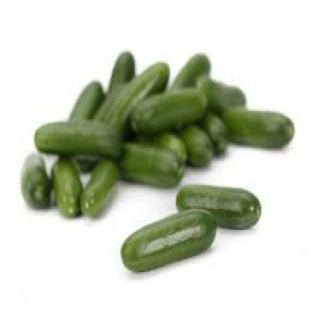Cucumber: (122, 210, 215, 271), (102, 63, 169, 131), (176, 185, 261, 228), (132, 89, 205, 135), (35, 121, 121, 157), (120, 144, 184, 188), (222, 108, 293, 147), (81, 160, 119, 217), (197, 78, 245, 114), (52, 158, 81, 217), (21, 155, 51, 207), (69, 81, 106, 122), (180, 126, 213, 167), (173, 54, 210, 88), (94, 84, 126, 122), (153, 132, 186, 164), (109, 52, 134, 93), (202, 113, 227, 154), (75, 155, 101, 173)
